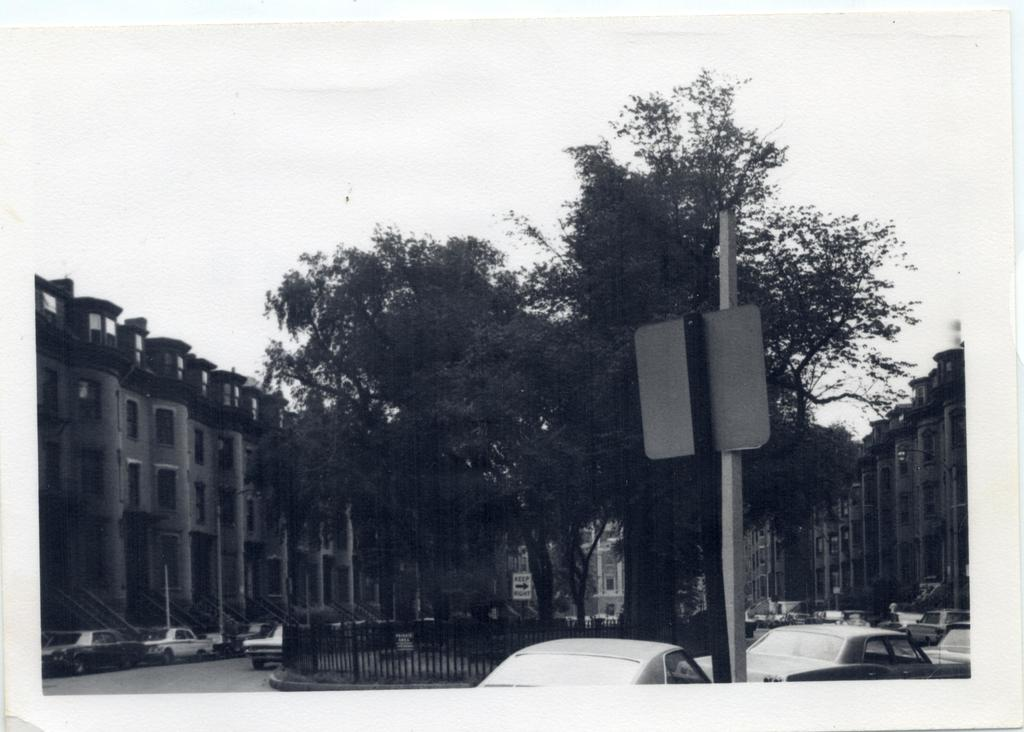Car: (470, 598, 968, 689), (35, 621, 453, 679)
